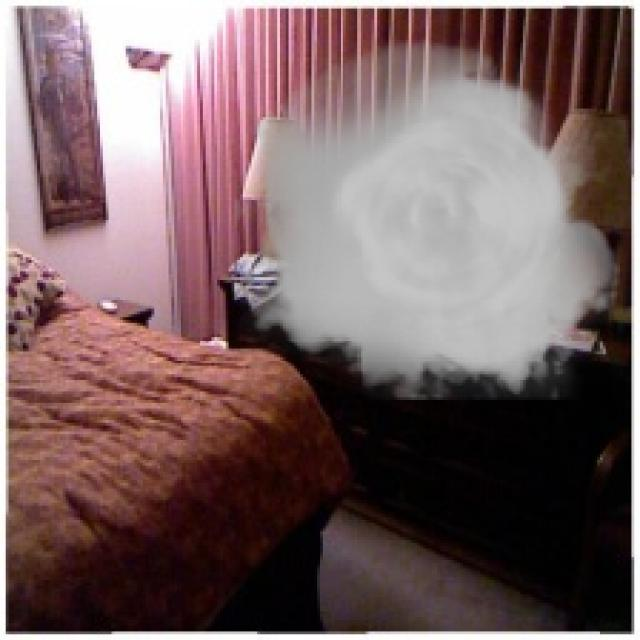smoke: (234, 40, 632, 400)
